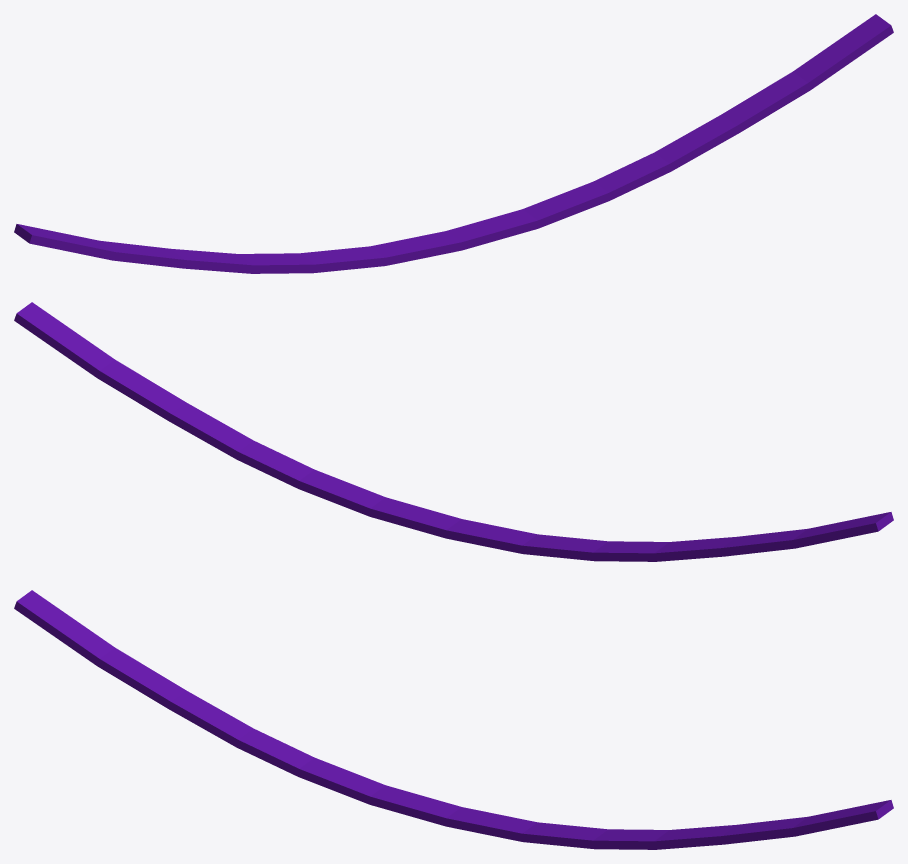
File: Tape_23_chunks.fbx
The picture shows the model from 3 angles, top to bottom: view 1: azimuth 30°, elevation 25°; view 2: azimuth 150°, elevation 25°; view 3: azimuth 330°, elevation 25°; orthographic projection.
Parts seen in each view (by area): view 1: Tape_23_0, Tape_23_1, Tape_23_3; view 2: Tape_23_0, Tape_23_1, Tape_23_3; view 3: Tape_23_0, Tape_23_1, Tape_23_3.
Boxes of the visible parts, x1,y1,x2,y2 form: Tape_23_0: (473,14,893,244); Tape_23_1: (168,226,482,273); Tape_23_3: (14,224,194,266); Tape_23_0: (14,302,444,526); Tape_23_1: (423,514,739,561); Tape_23_3: (714,512,893,554); Tape_23_0: (463,800,893,849); Tape_23_1: (152,695,481,830); Tape_23_3: (14,590,193,706).
Size of the model in its own units: 776 by 103 by 24.08.
